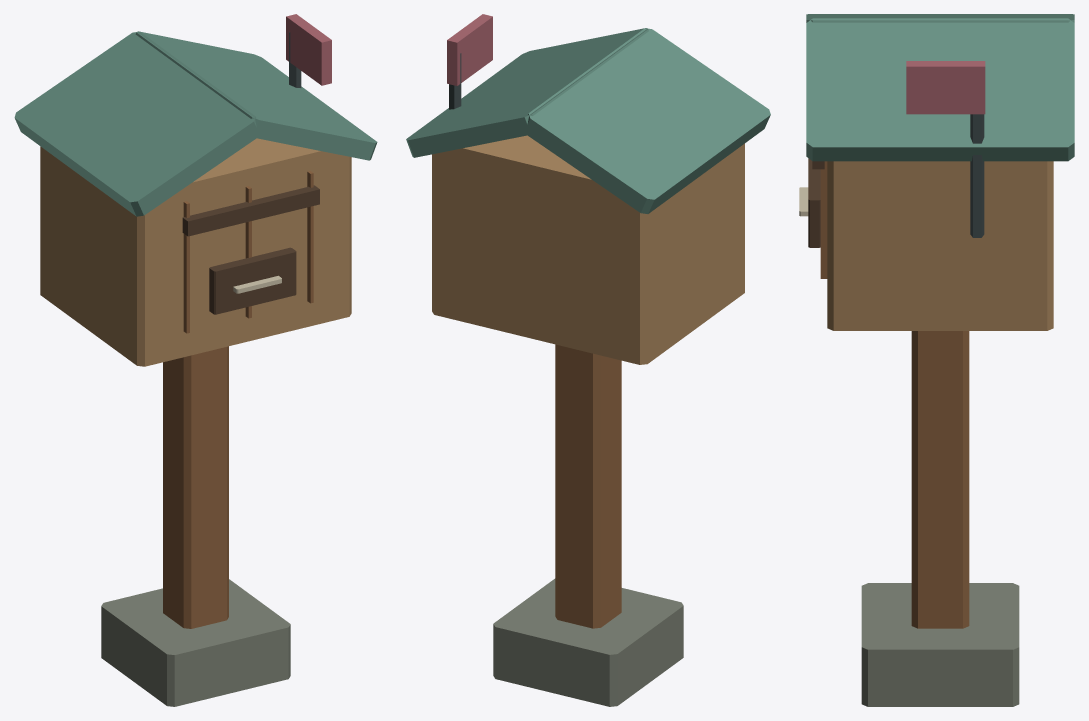
The model's file is decor_mailbox.glb.
3 renders of one model, left to right at view 1: azimuth 30°, elevation 25°; view 2: azimuth 150°, elevation 25°; view 3: azimuth 270°, elevation 25°, orthographic. The views are drawn at different scales.
Visible parts, largest first — view 1: geometry; view 2: geometry; view 3: geometry.
Boxes of the visible parts, bbox=[...] form: geometry: bbox=[14, 14, 377, 706]; geometry: bbox=[406, 14, 770, 706]; geometry: bbox=[799, 14, 1074, 706].
Bounding box in the file's own units: 0.5995 × 1.41 × 0.5235.
